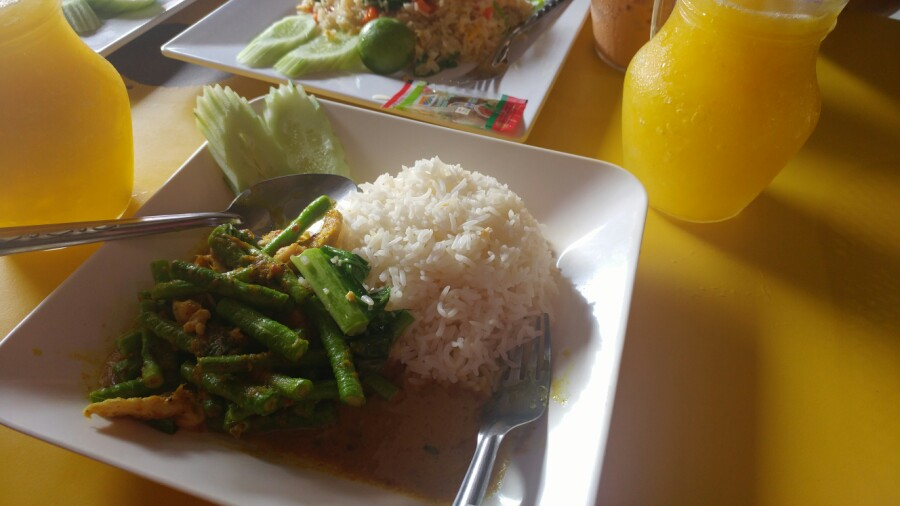chopped lettuce: (138, 260, 334, 394)
plain rice: (354, 167, 554, 353)
